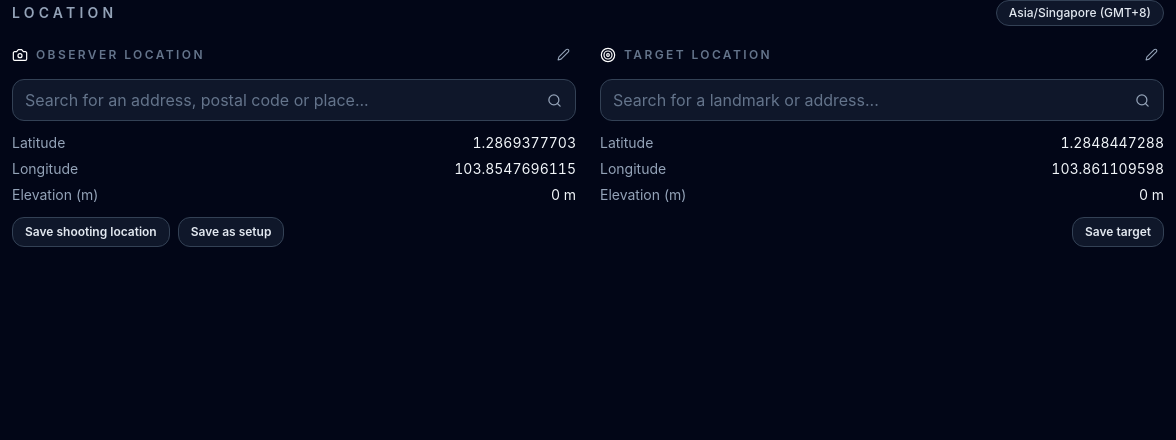
LocationControls › enters edit mode with a double-click on a value and commits with the save button
Double-click the text "1.2869377703": [524, 143] box [472, 133, 576, 153]
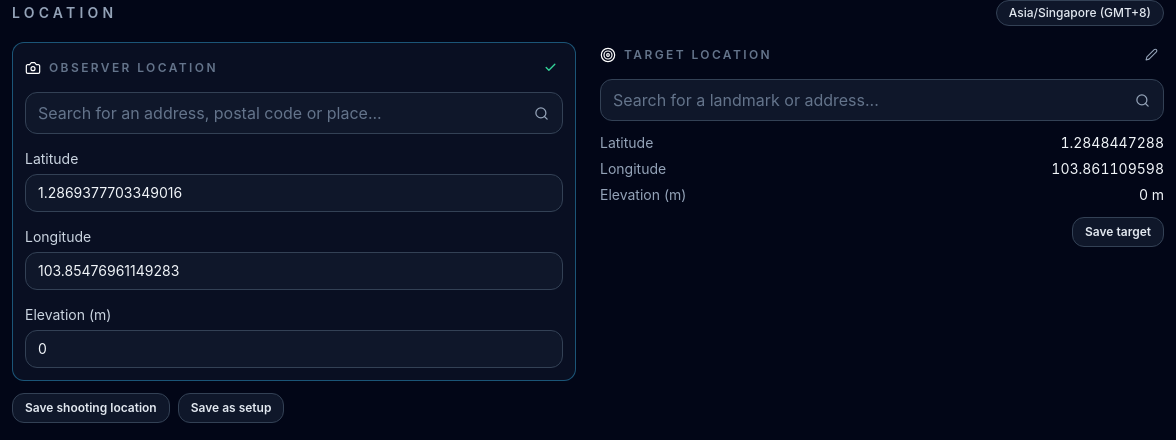
Result: the button named "save observer location" is shown at [538, 55, 563, 80]
Replace the text in the field labelled "Latitude" with "2.5": [294, 193] box [25, 174, 563, 212]
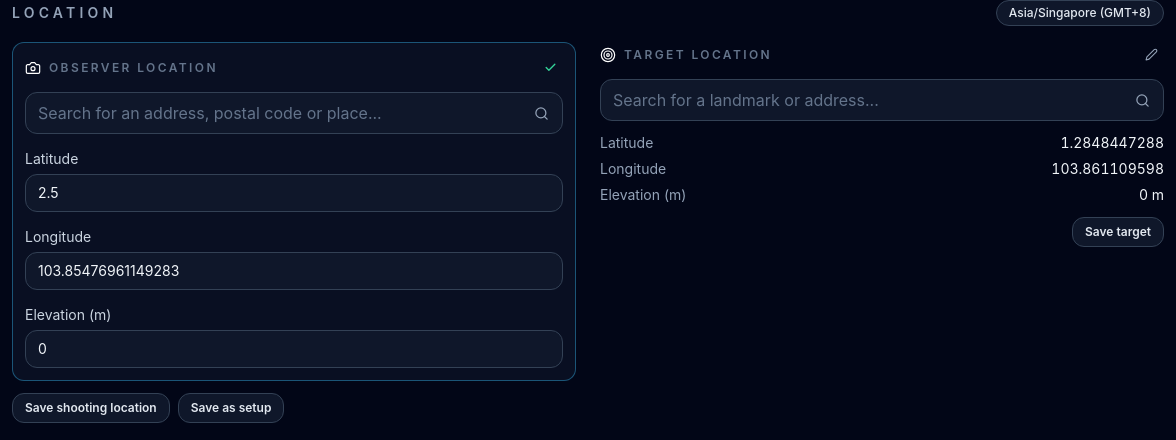
Click the button named "save observer location": [550, 68] box [538, 55, 563, 80]
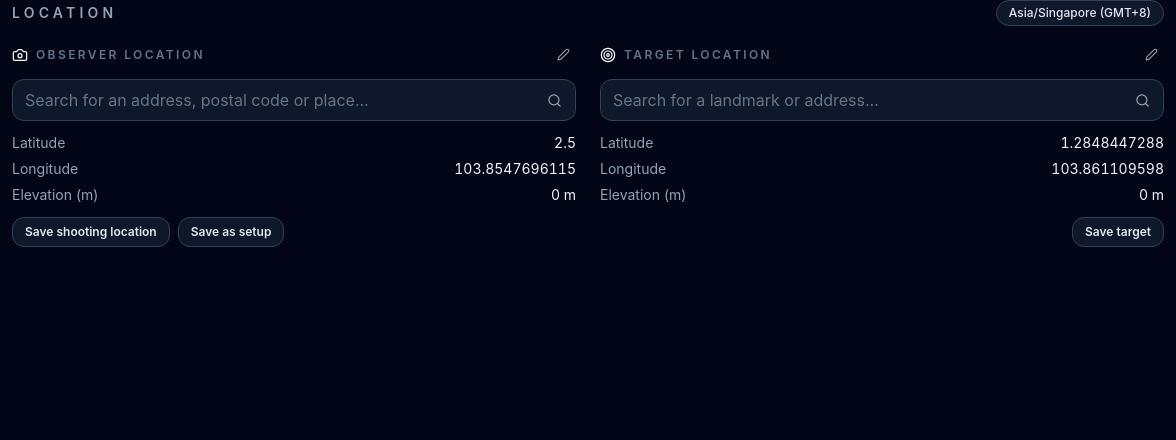
Result: the text "2.5" is shown once at [554, 133, 576, 153]
